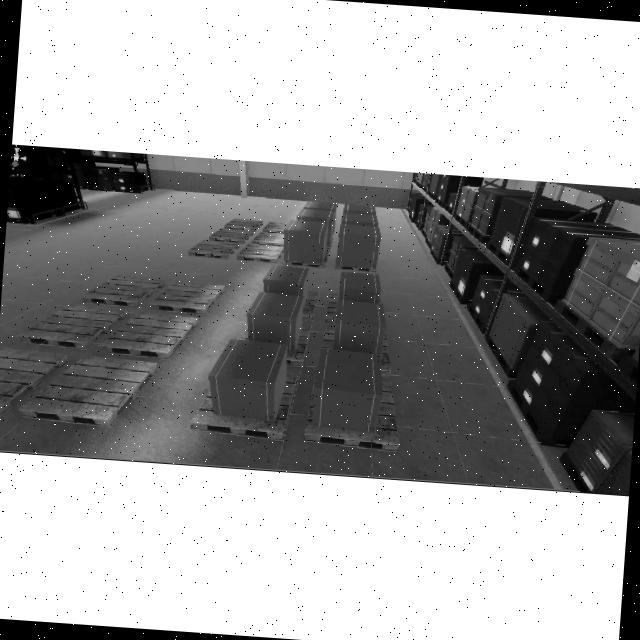wooden_pallet: (17, 357, 155, 427), (302, 374, 400, 452), (188, 375, 297, 442), (0, 344, 69, 416), (98, 310, 199, 358), (19, 303, 126, 348), (149, 278, 225, 314), (83, 275, 166, 307), (187, 239, 239, 259), (236, 243, 284, 263), (208, 227, 252, 242), (224, 218, 263, 231), (251, 231, 284, 245), (262, 221, 289, 233), (332, 265, 375, 272), (283, 261, 324, 268)
